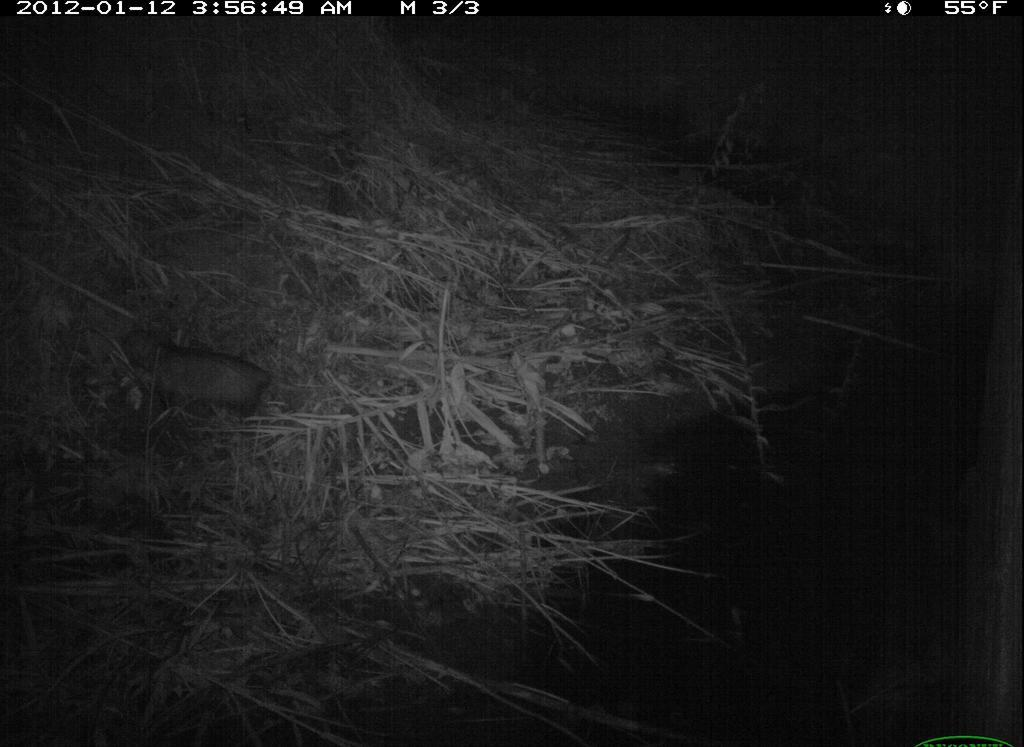opossum: (118, 317, 289, 434)
